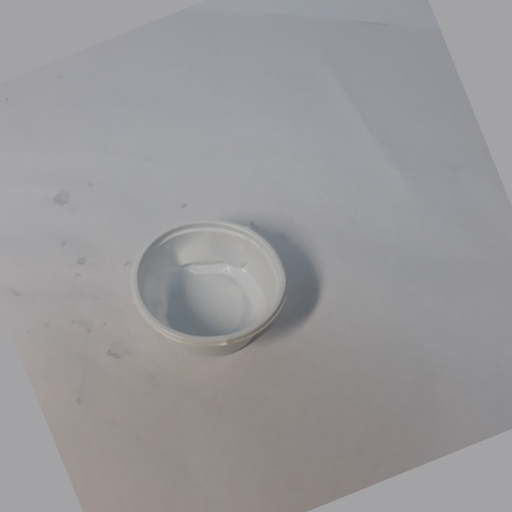Plastic_5: (126, 220, 288, 357)
